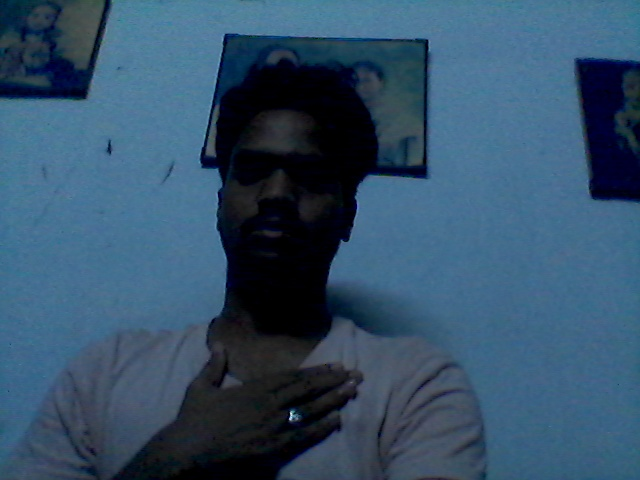Fine: (170, 339, 372, 480)
